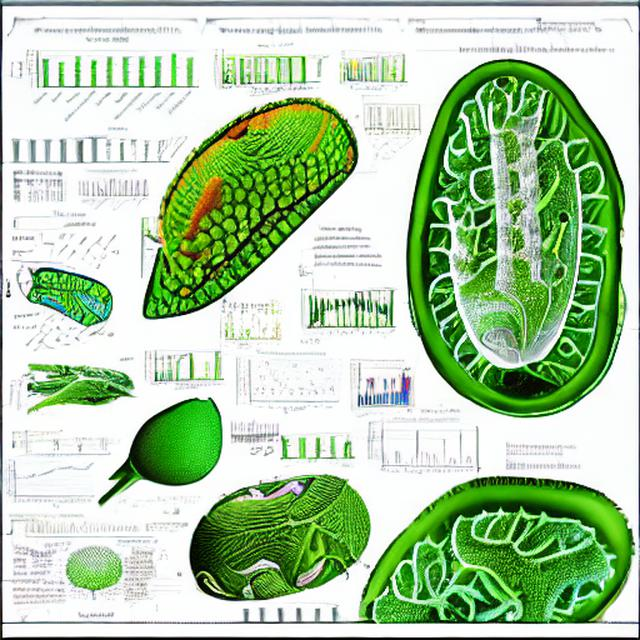Graph: (14, 24, 201, 132), (233, 350, 340, 414), (367, 416, 470, 478), (2, 452, 94, 511), (75, 168, 149, 211)
